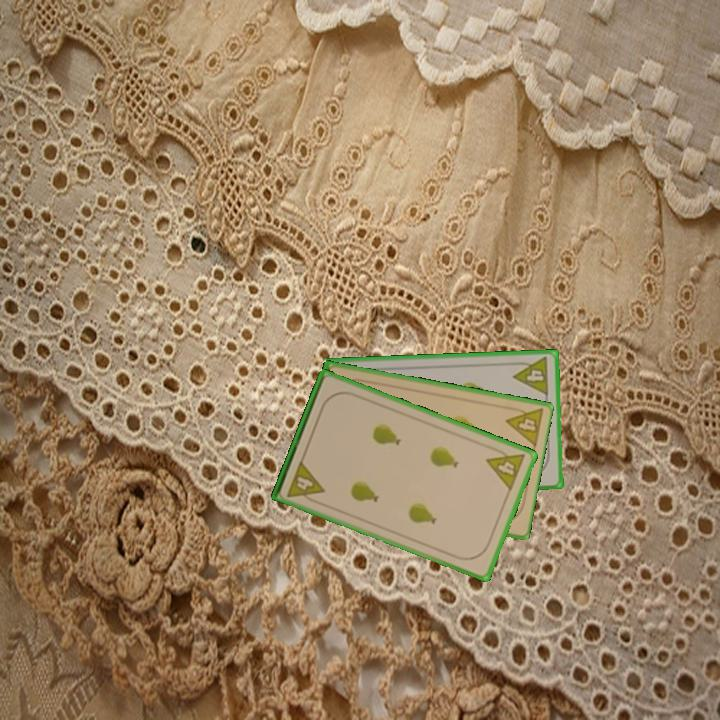4p: (483, 443, 528, 494), (284, 457, 327, 507), (502, 402, 545, 449), (510, 354, 552, 398)
